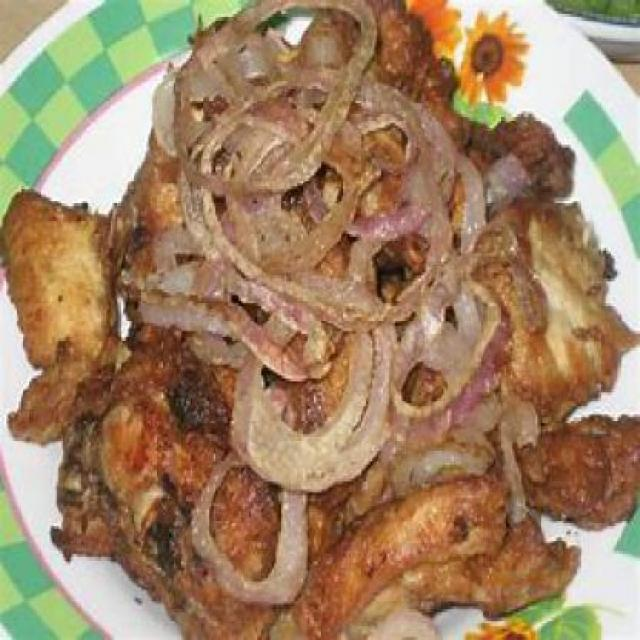chicken wings: (1, 2, 638, 638)
onion rings: (128, 16, 506, 604)
